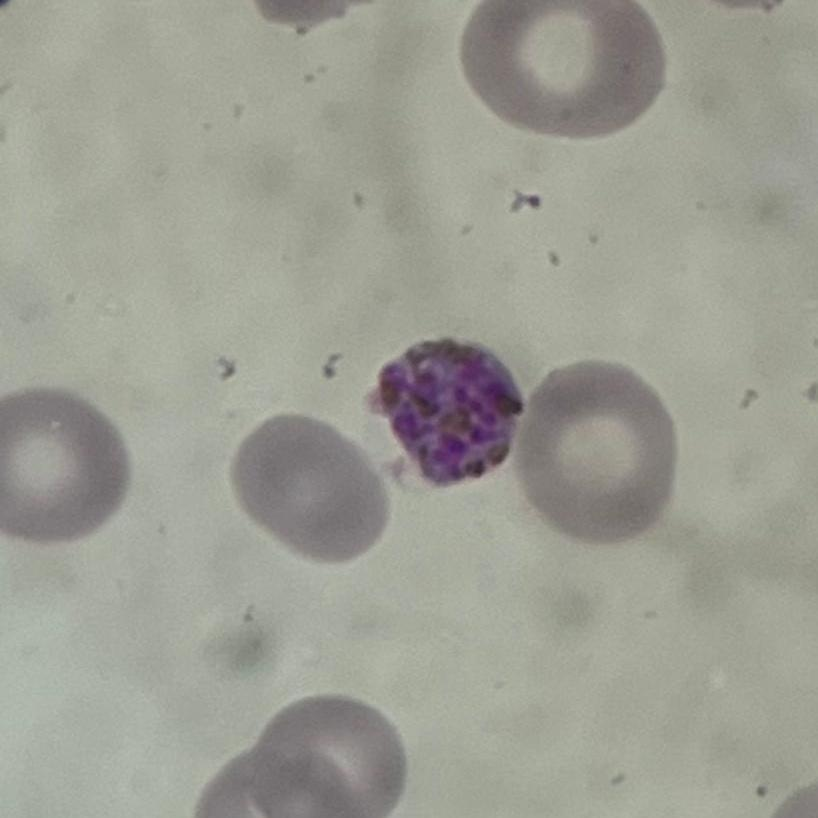Infected: (378, 337, 523, 489)
Uninfected: (518, 356, 677, 542), (460, 0, 665, 141), (235, 416, 392, 568), (0, 386, 128, 545)
